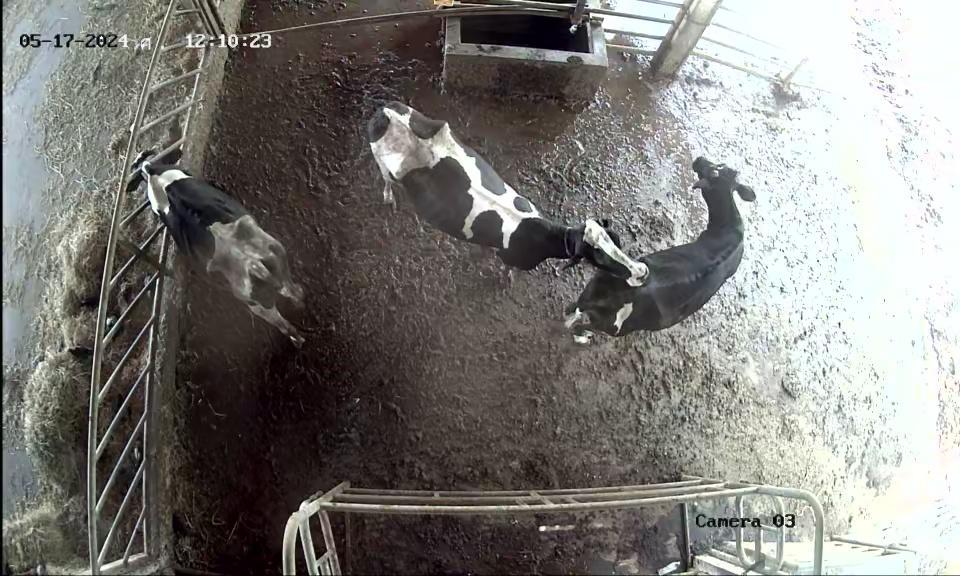eat: (97, 125, 207, 224)
propping: (511, 188, 670, 304)
stand: (557, 122, 772, 357)
